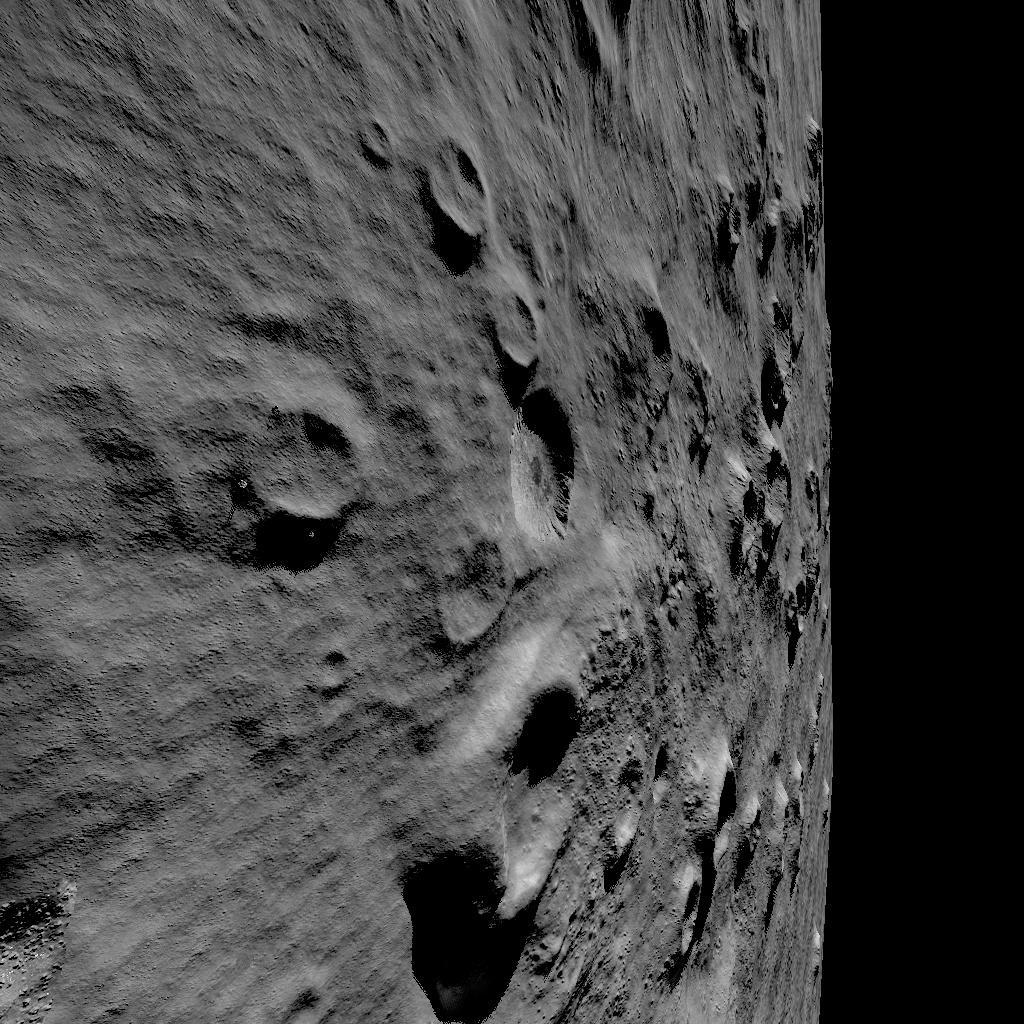Crater: (393, 622, 588, 982), (424, 135, 580, 540), (604, 730, 820, 989), (734, 298, 828, 638), (476, 0, 778, 100), (604, 298, 698, 492), (241, 410, 363, 535), (698, 142, 810, 272)
Plan surface: (0, 0, 386, 395), (54, 565, 370, 1024), (0, 422, 198, 542)
